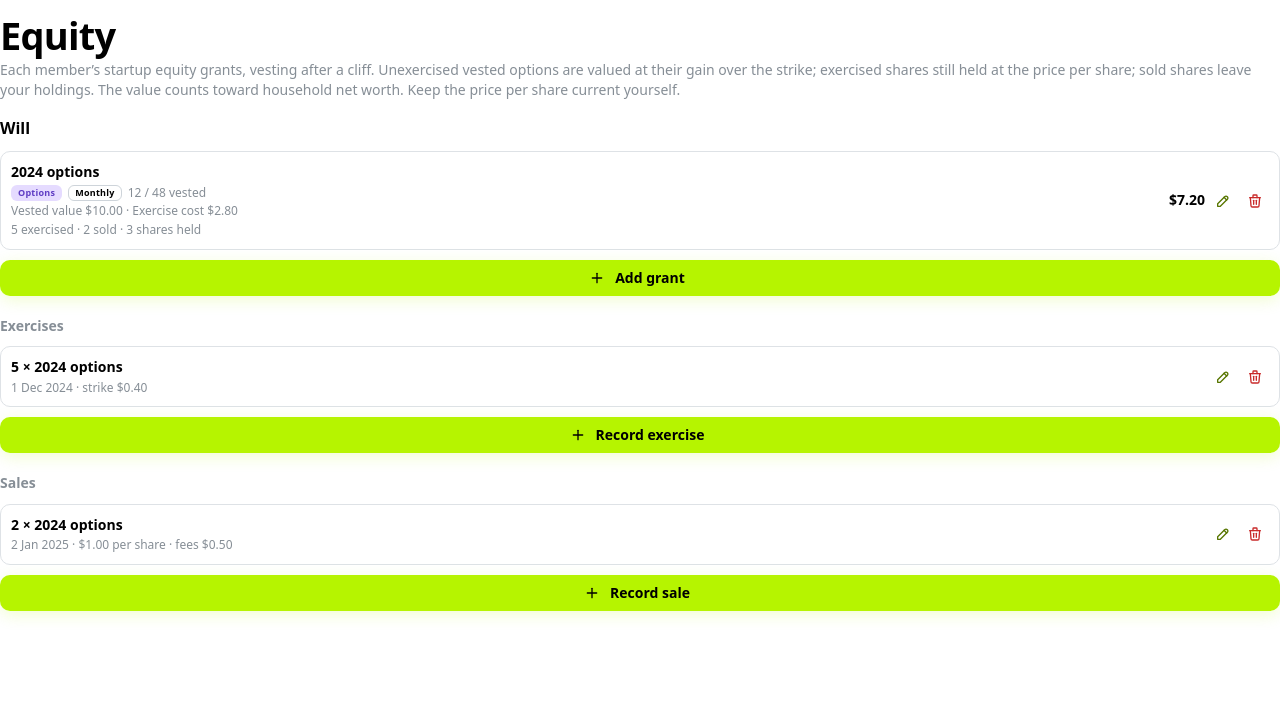
EquityScreen › confirms before deleting an exercise or a sale
The image size is (1280, 720).
Click the button named "delete" in the row of "1 Dec 2024 · strike $0.40".
click(1255, 377)  # box [1241,363,1269,391]
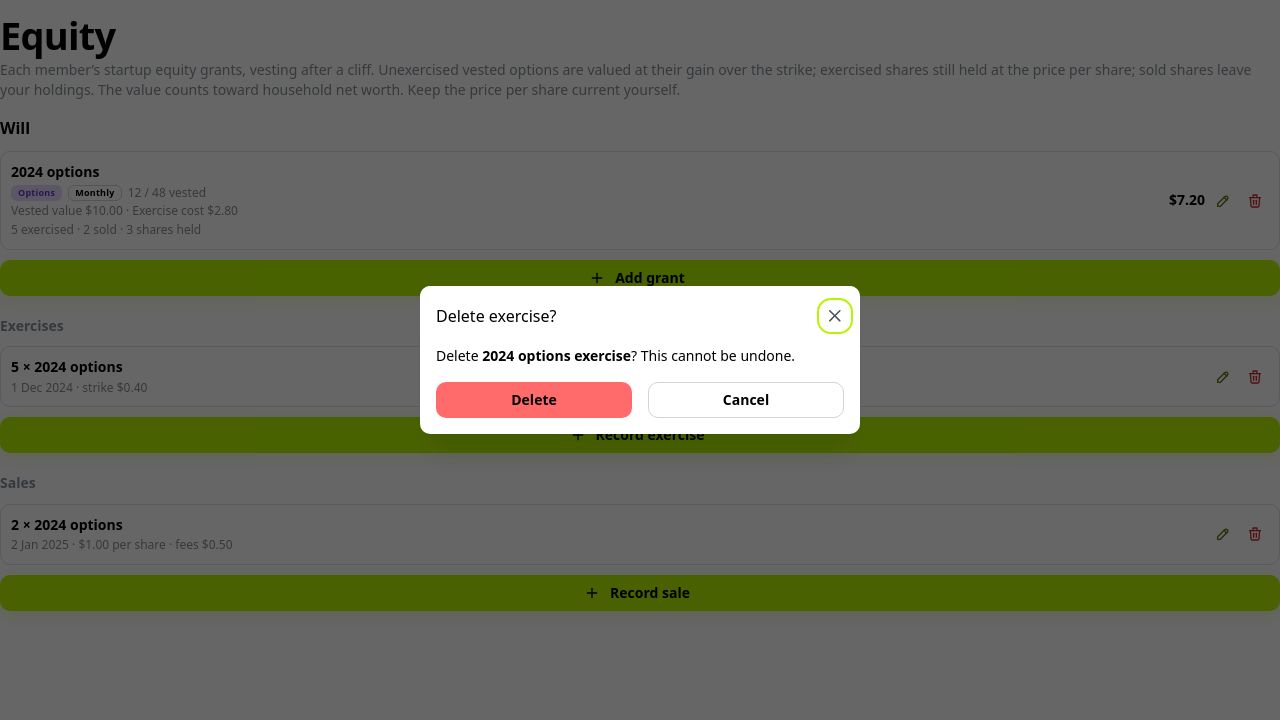
Click the button "Delete".
click(534, 400)  # box [436,382,632,418]
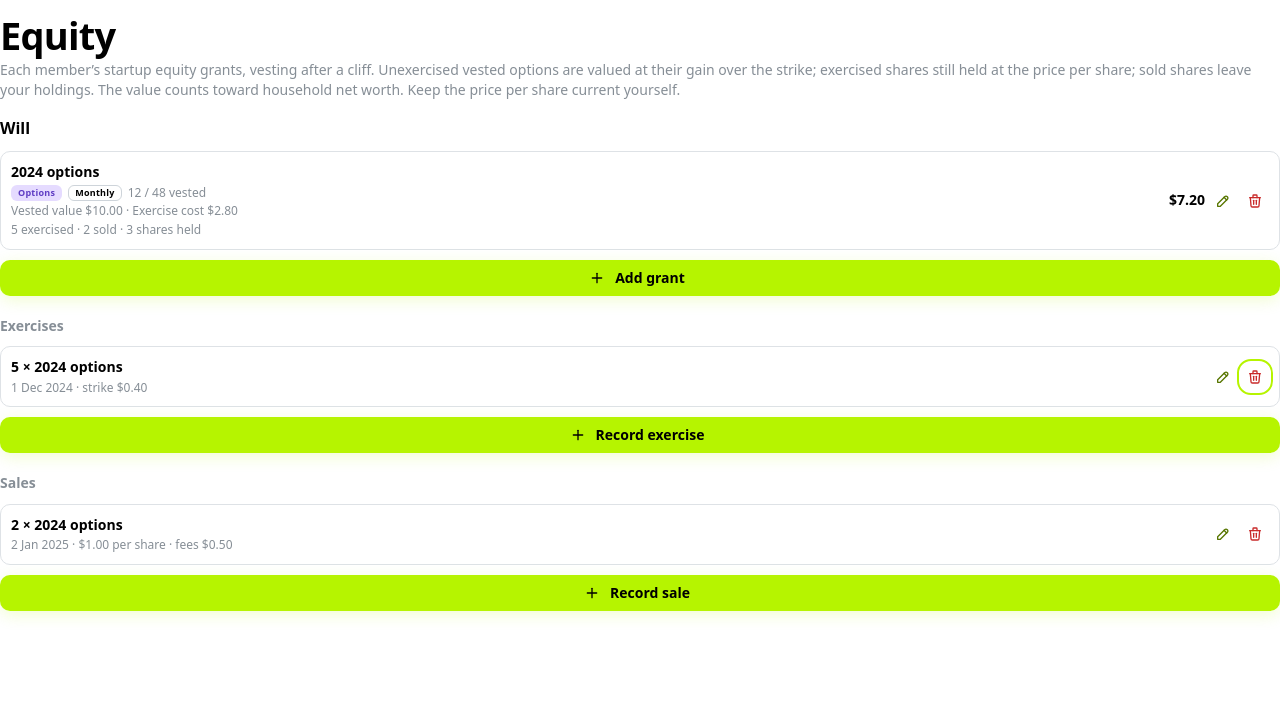
expect the dialog is gone: met
Click the button named "delete" in the row of "2 × 2024 options".
click(1255, 534)  # box [1241,520,1269,548]
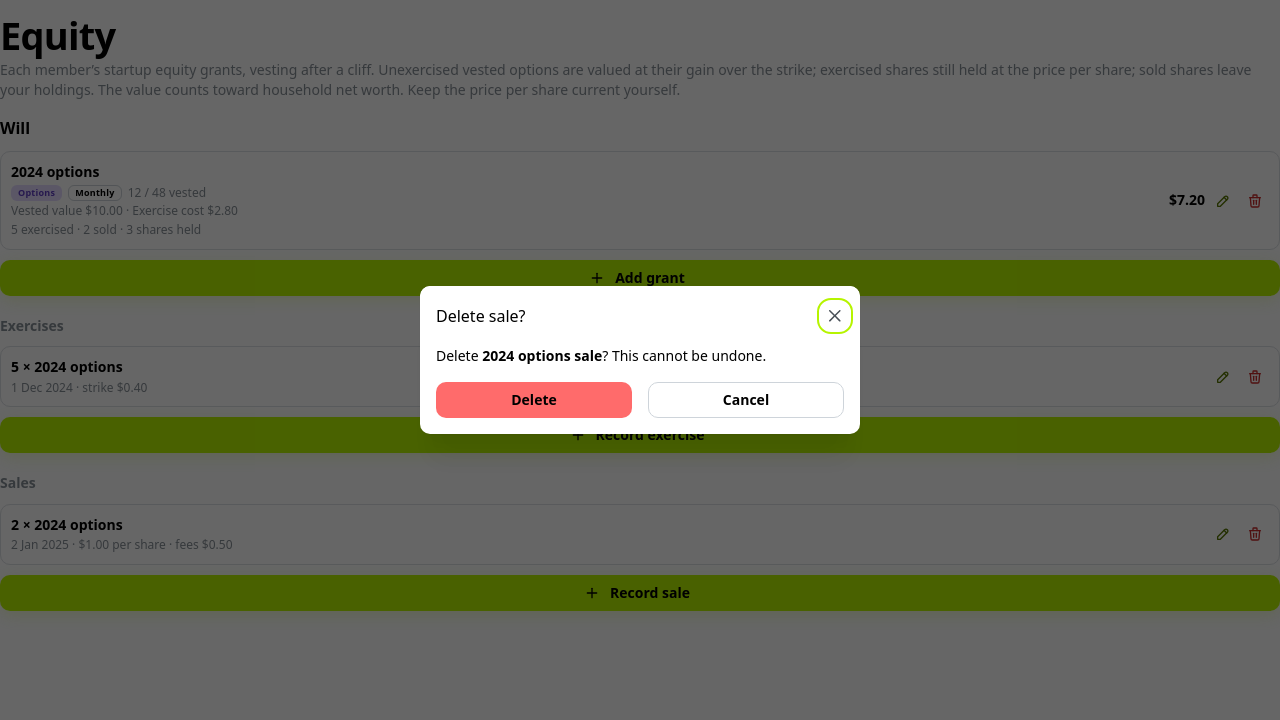
Click the button "Delete".
click(534, 400)  # box [436,382,632,418]
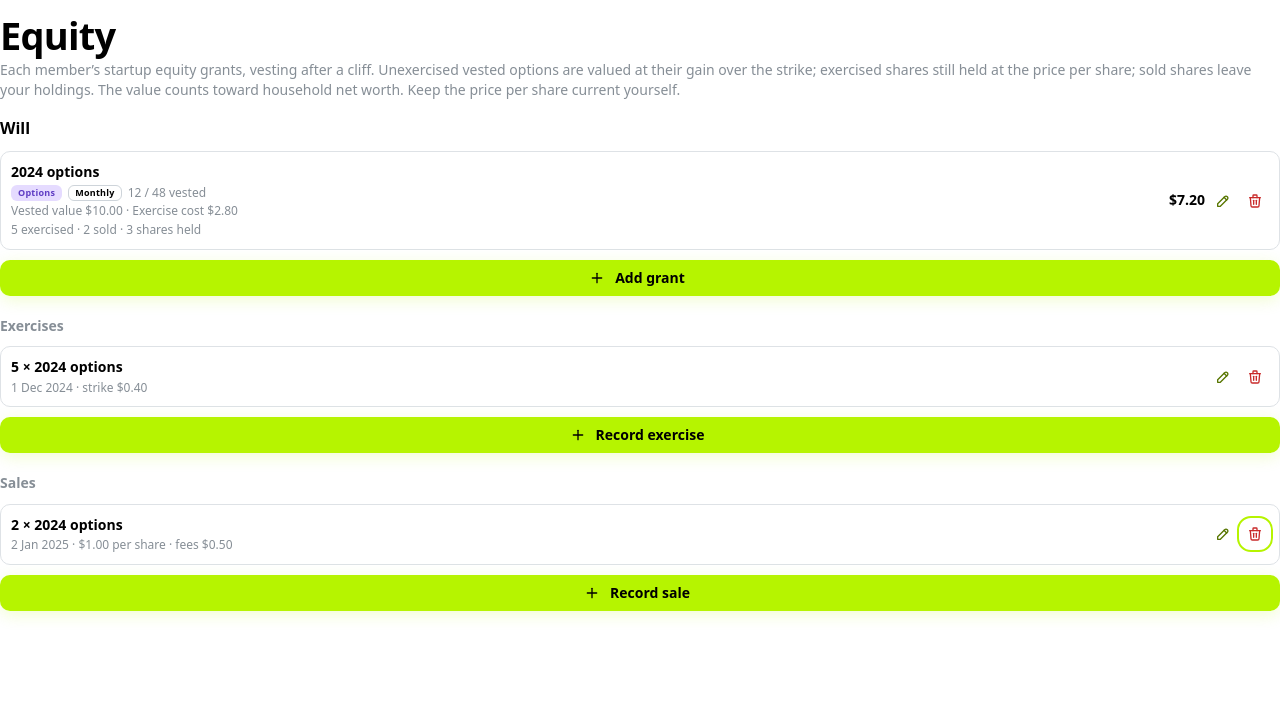
expect the dialog is gone: met
